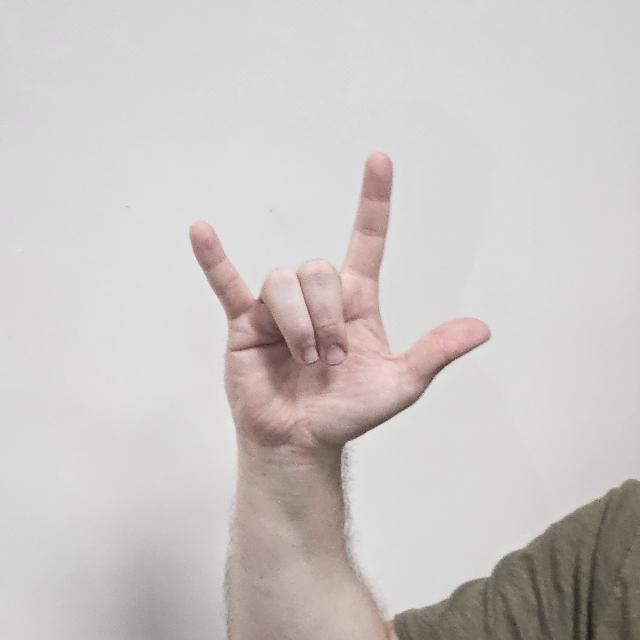Cima: (178, 154, 490, 448)
